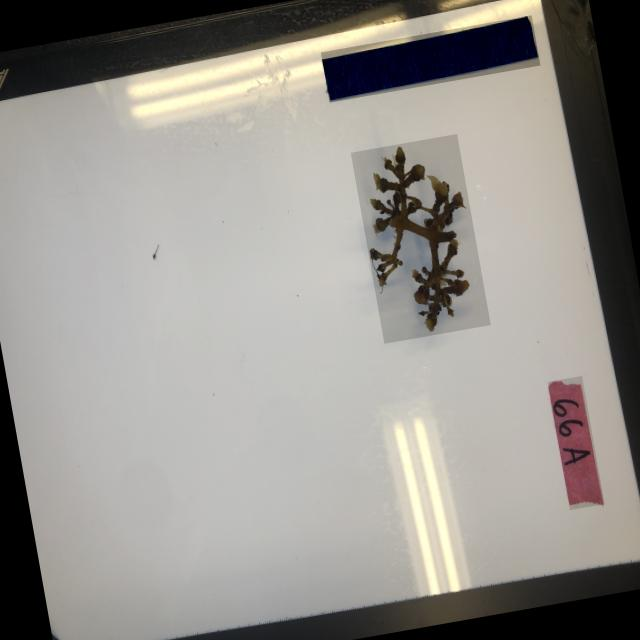index: (546, 376, 603, 510)
measure_label: (320, 15, 540, 102)
rachis_cluster: (349, 134, 489, 344)
